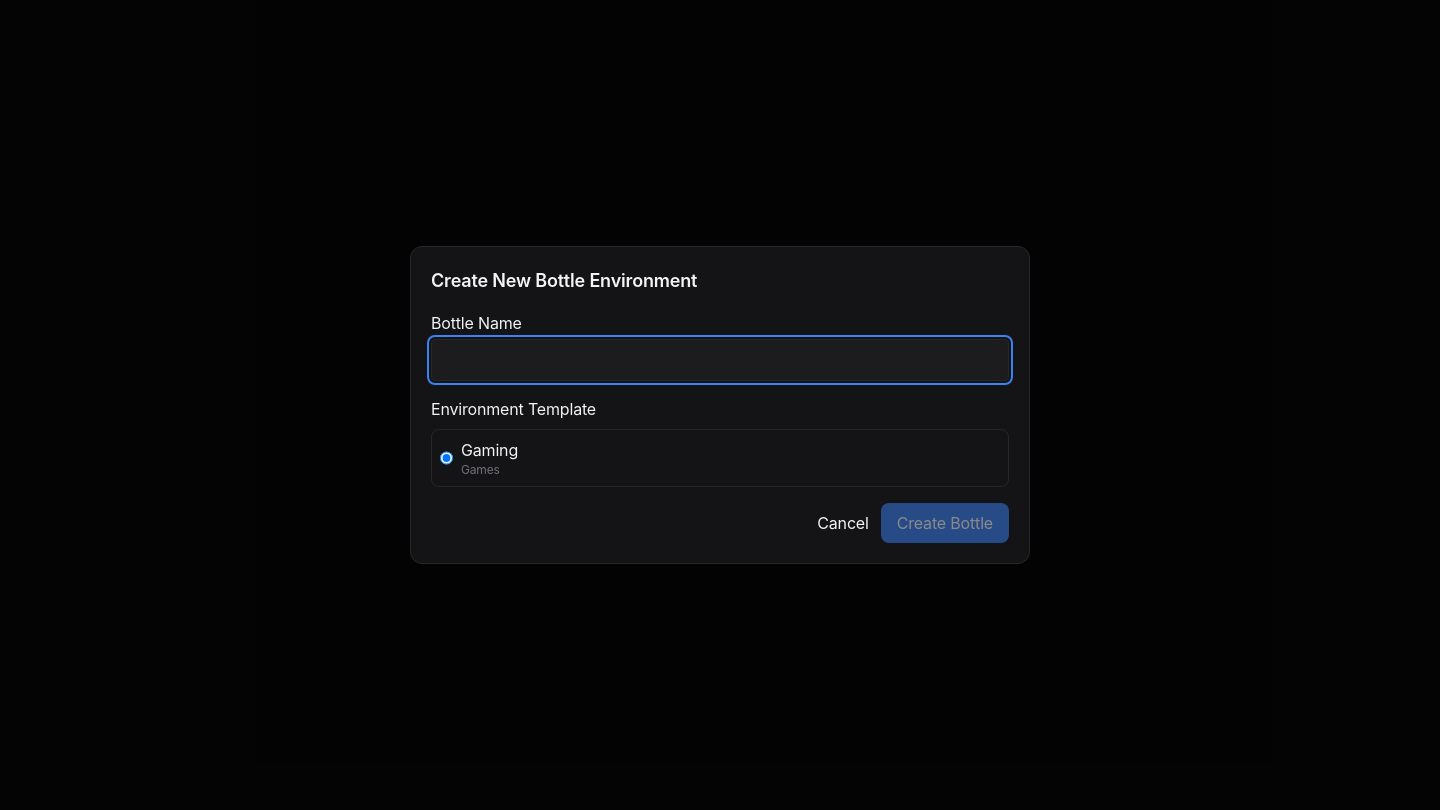
Test: keeps failed creation visible and does not dismiss the dialog
Type "Test bottle" into the field labelled "Bottle Name". click: (720, 360)
box: [431, 339, 1009, 381]
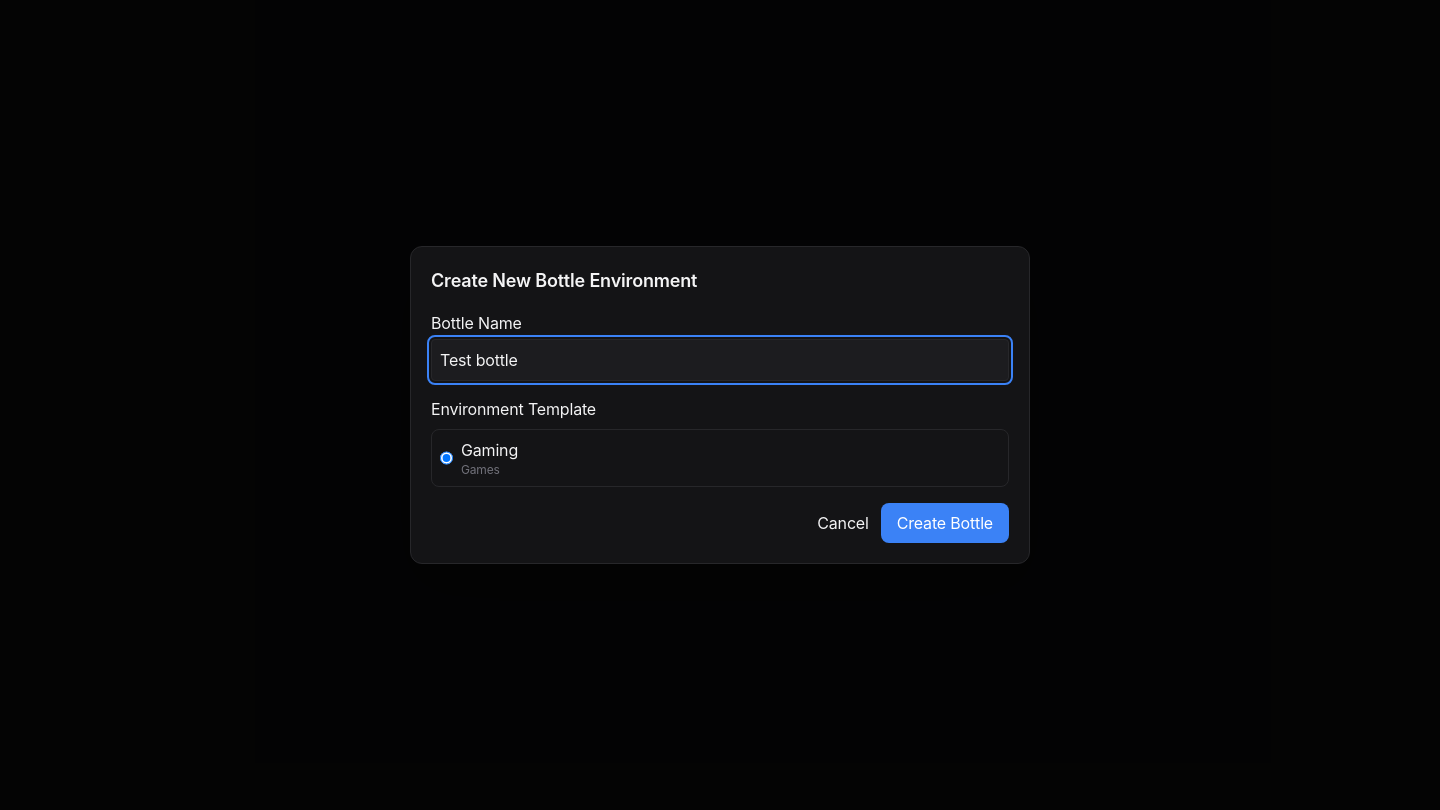
Click the button "Create Bottle". click: (945, 523)
box: [881, 503, 1009, 543]
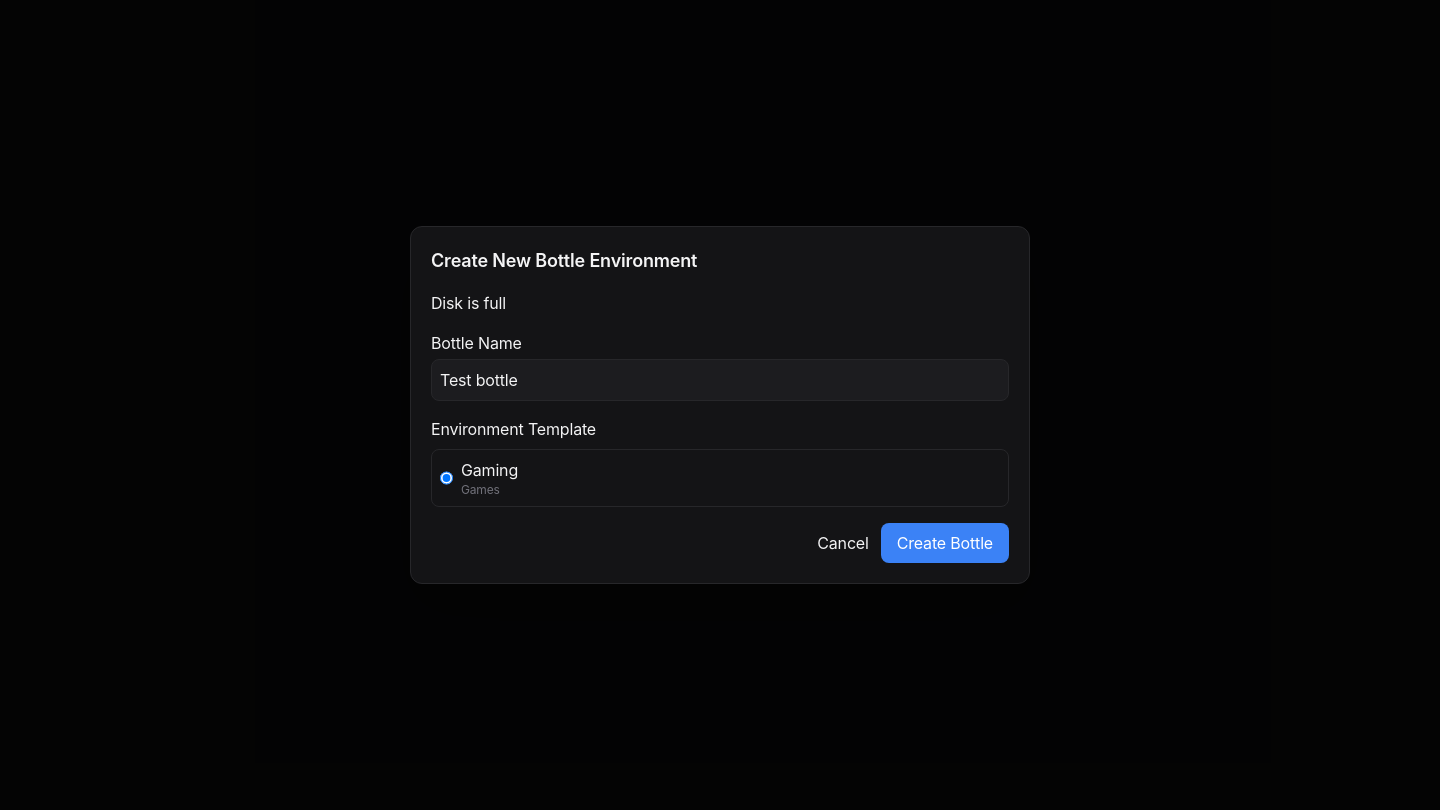
Expected: the button "Create Bottle" is enabled, [881, 523, 1009, 563]
Expected: the message reads "Disk is full", [431, 293, 506, 313]
